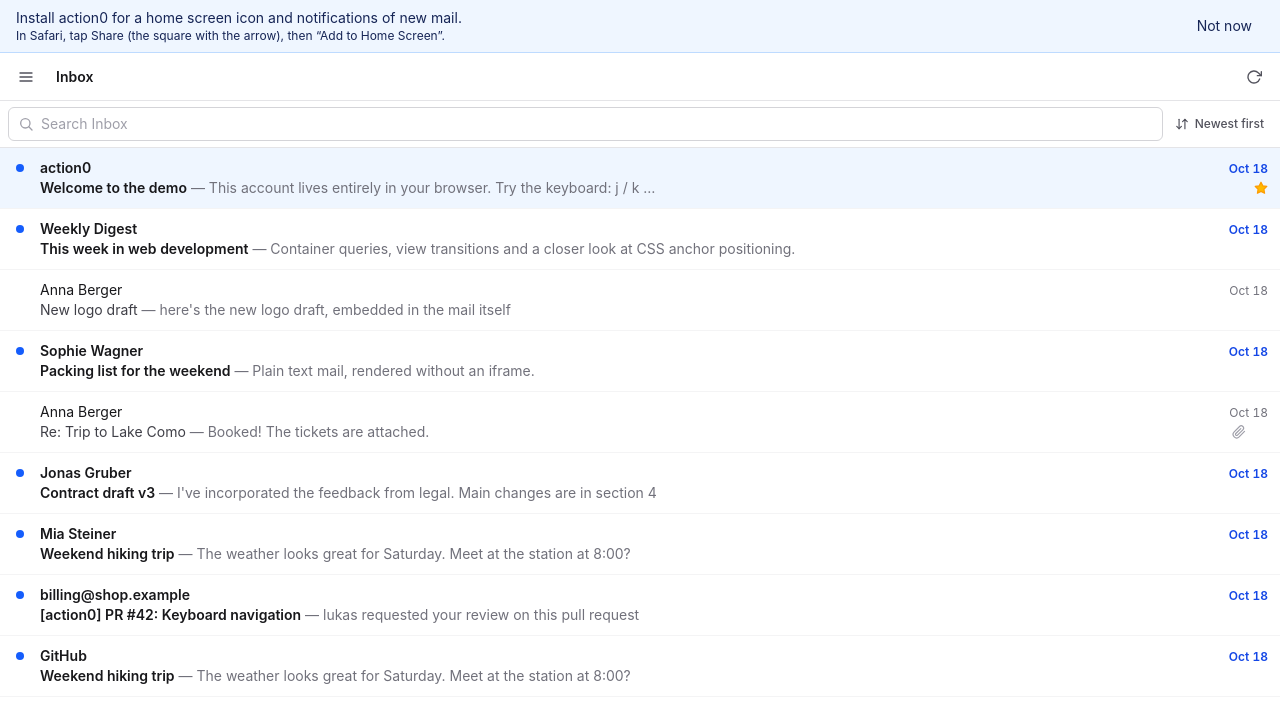
Test case: the installable web app › shows Safari's steps on iPhones, and nothing on wide screens
The width and height of the screenshot is (1280, 709).
Expected: the text "In Safari, tap Share (the square with the arrow), then “Add to Home Screen”." is shown, [16,28,445,43]
Click the button "Not now": (1224, 26) [1185,12,1264,40]
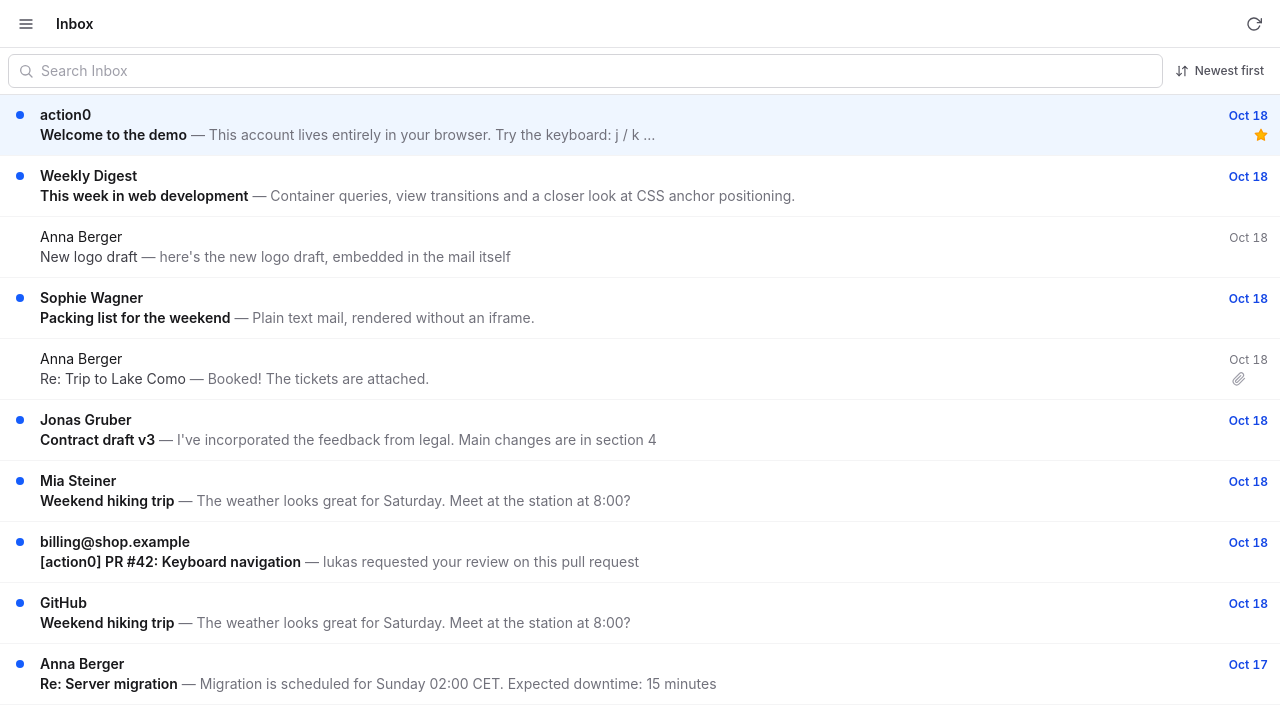
Expected: the text "Add to Home Screen" is gone
